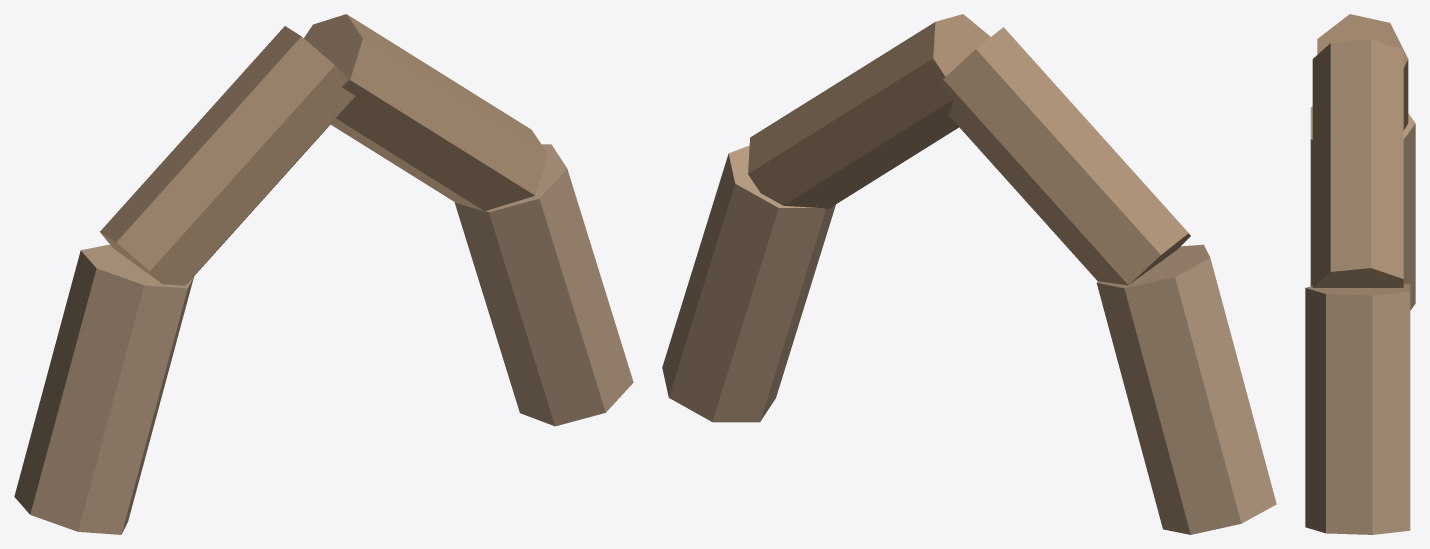
Rendered from root_arch.glb.
The picture shows the model from 3 angles, left to right: view 1: azimuth 30°, elevation 25°; view 2: azimuth 150°, elevation 25°; view 3: azimuth 270°, elevation 25°; orthographic projection. The views are drawn at different scales.
Parts seen in each view (by area): view 1: Root_-1_low, Root_-1_high, Root_1_low, Root_1_high; view 2: Root_-1_low, Root_-1_high, Root_1_low, Root_1_high; view 3: Root_1_low, Root_1_high, Root_-1_low, Root_-1_high.
Boxes of the visible parts, x1,y1,x2,y2 form: Root_-1_low: (14, 244, 193, 534); Root_-1_high: (100, 26, 355, 285); Root_1_low: (454, 144, 633, 426); Root_1_high: (304, 14, 547, 211); Root_-1_low: (1096, 244, 1276, 534); Root_-1_high: (940, 27, 1190, 285); Root_1_low: (662, 145, 835, 422); Root_1_high: (748, 14, 990, 210); Root_1_low: (1305, 284, 1410, 534); Root_1_high: (1312, 39, 1403, 287); Root_-1_low: (1310, 106, 1415, 310); Root_-1_high: (1317, 14, 1408, 130).
Size of the model in its own units: 1.72 by 1.21 by 0.3.
